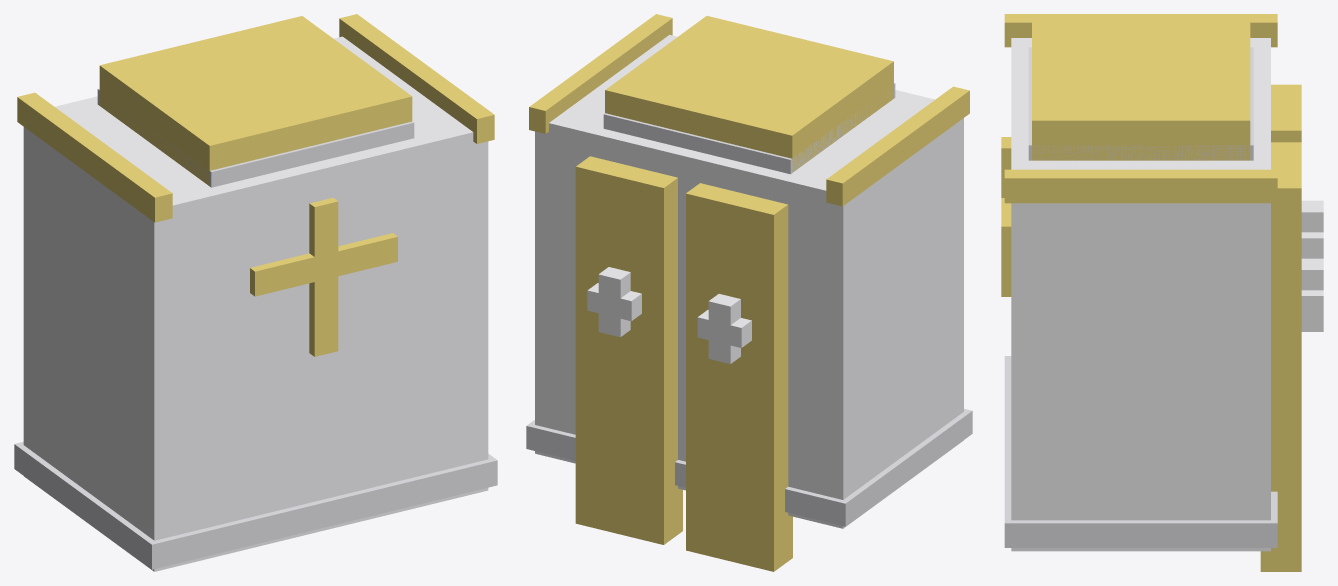
Rendered from sacerdote_tronco.glb.
The picture shows the model from 3 angles, left to right: view 1: azimuth 30°, elevation 25°; view 2: azimuth 150°, elevation 25°; view 3: azimuth 270°, elevation 25°; orthographic projection. The views are drawn at different scales.
Visible parts, largest first — view 1: sacerdote_tronco; view 2: sacerdote_tronco; view 3: sacerdote_tronco.
Part boxes in pixels (box(x1,y1,x2,y2)): sacerdote_tronco: box(14, 14, 497, 571); sacerdote_tronco: box(526, 14, 972, 571); sacerdote_tronco: box(1001, 14, 1323, 571).
Bounding box in the file's own units: 0.58 × 0.725 × 0.4725.
